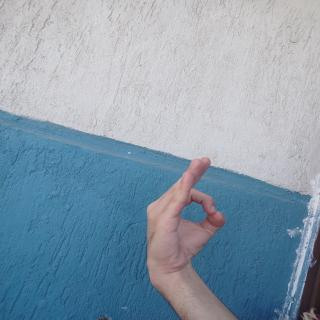Space: (143, 154, 236, 277)
